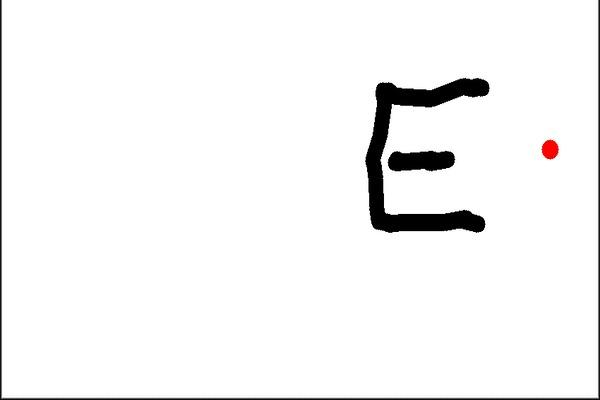E: (360, 74, 493, 245)
